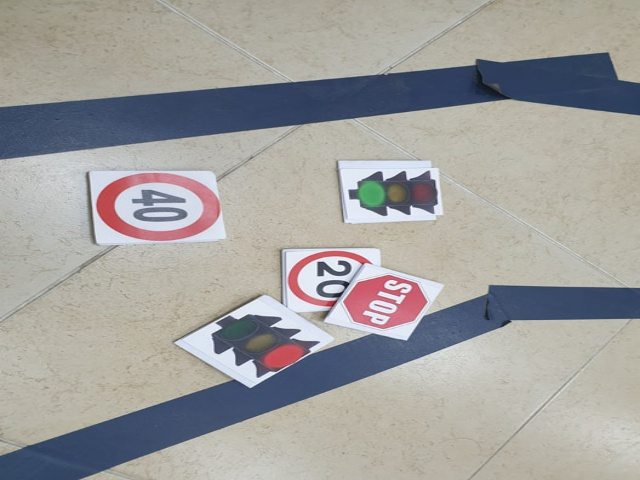Green: (343, 164, 439, 219)
Limit 20: (292, 251, 353, 304)
Limit 40: (96, 174, 226, 244)
Red: (210, 316, 318, 377)
Stop: (349, 275, 426, 330)
